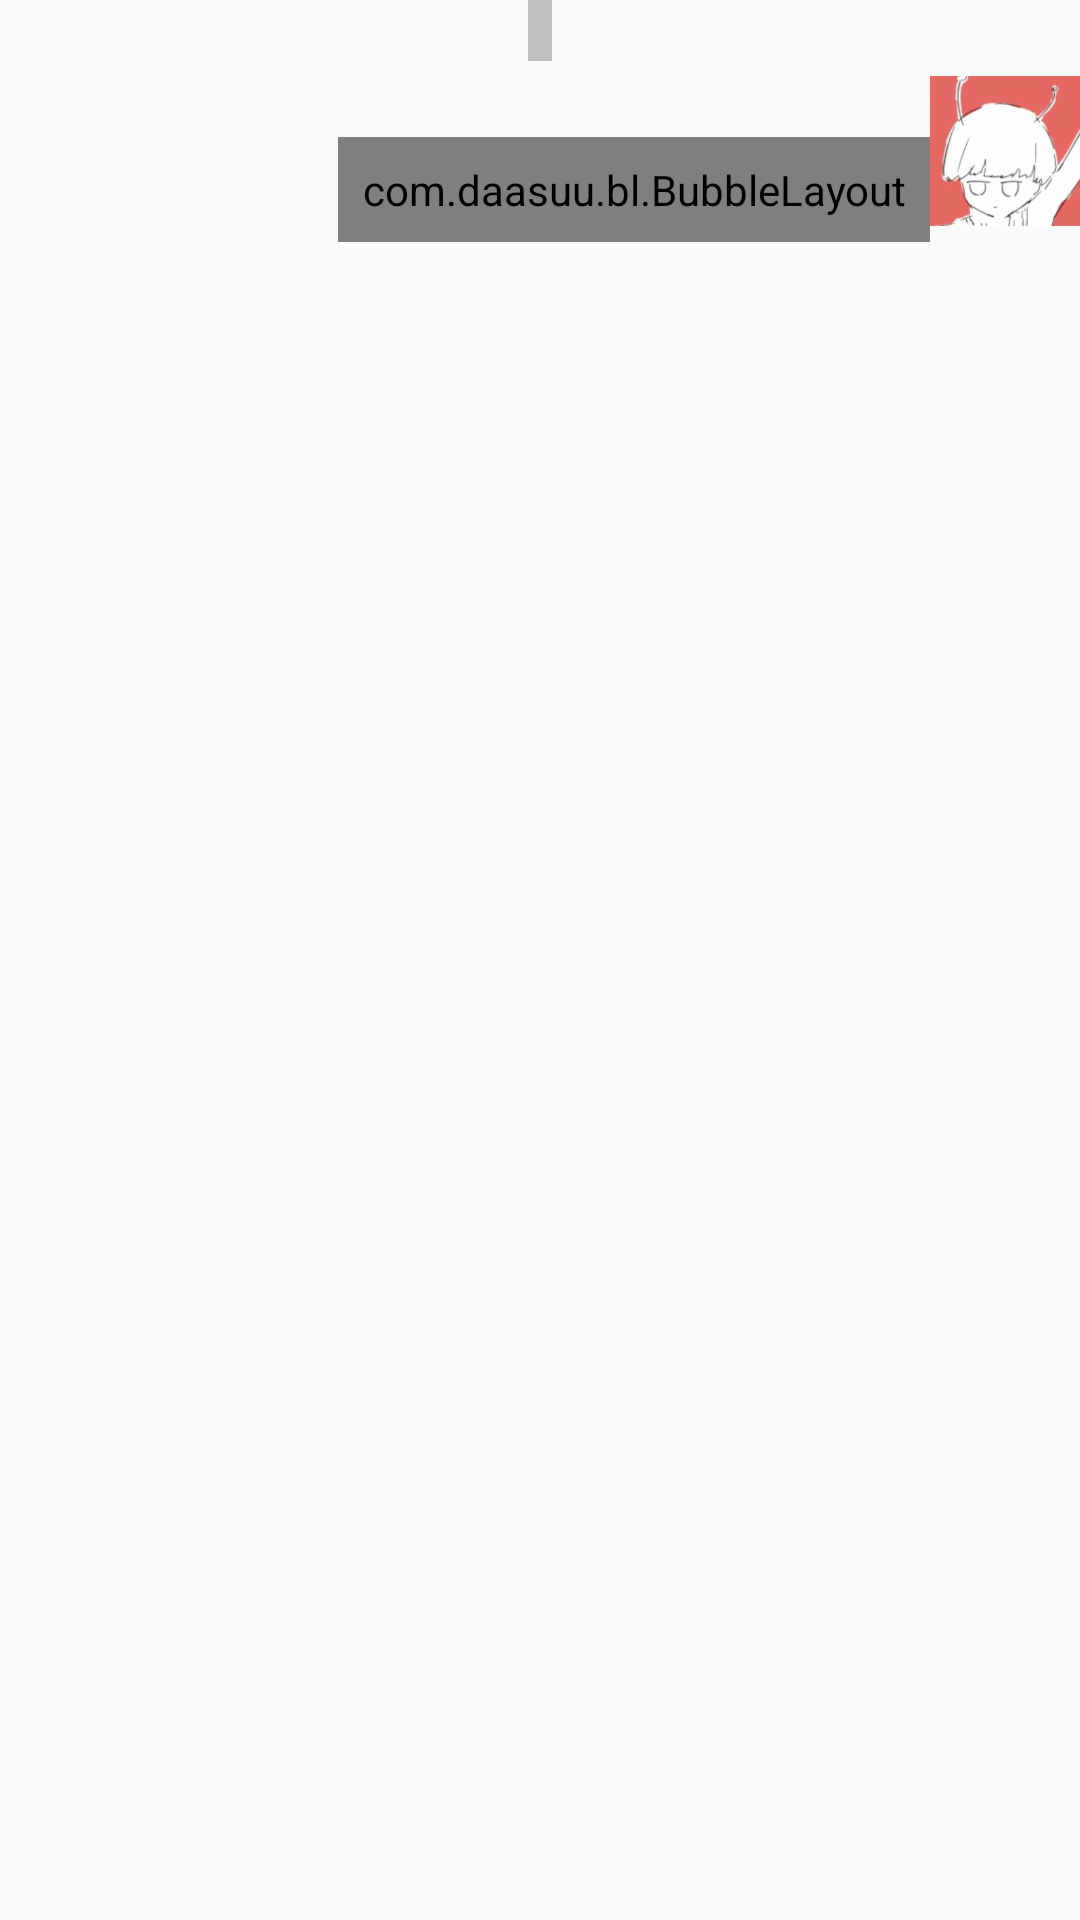

Icons on this 1080×1920 Android screen, each with the point to tap as (x,y):
mypic: (1005,151)
